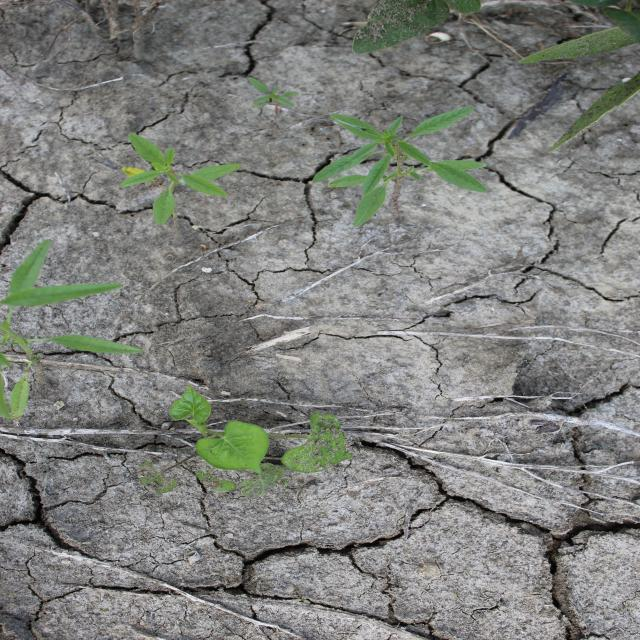MorningGlory: (135, 384, 361, 502)
Waterhemp: (3, 237, 145, 423), (311, 104, 490, 227), (118, 131, 245, 228), (244, 73, 302, 117)
